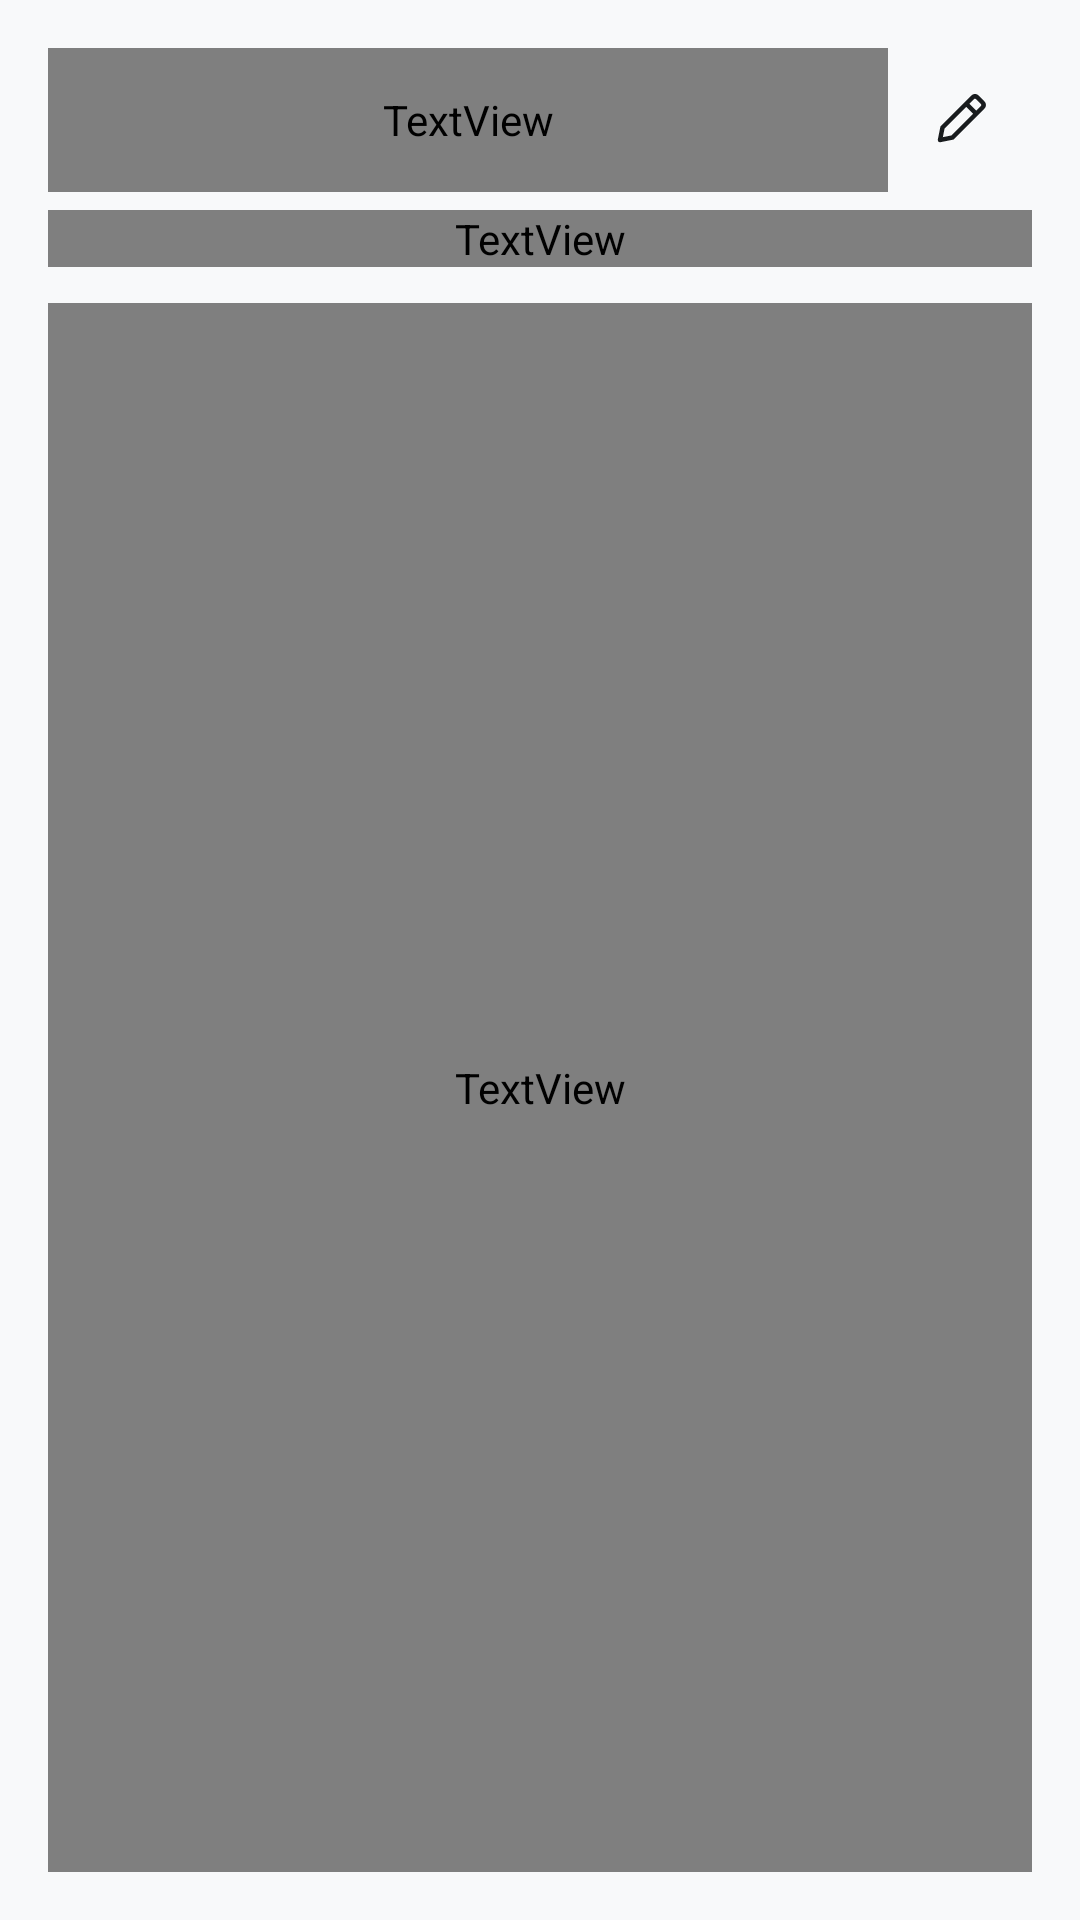

Point at icon controls on the screen. Image size 1080 x 1920, points as (x=x, y=y).
Edit widget appearance: (x=961, y=118)
